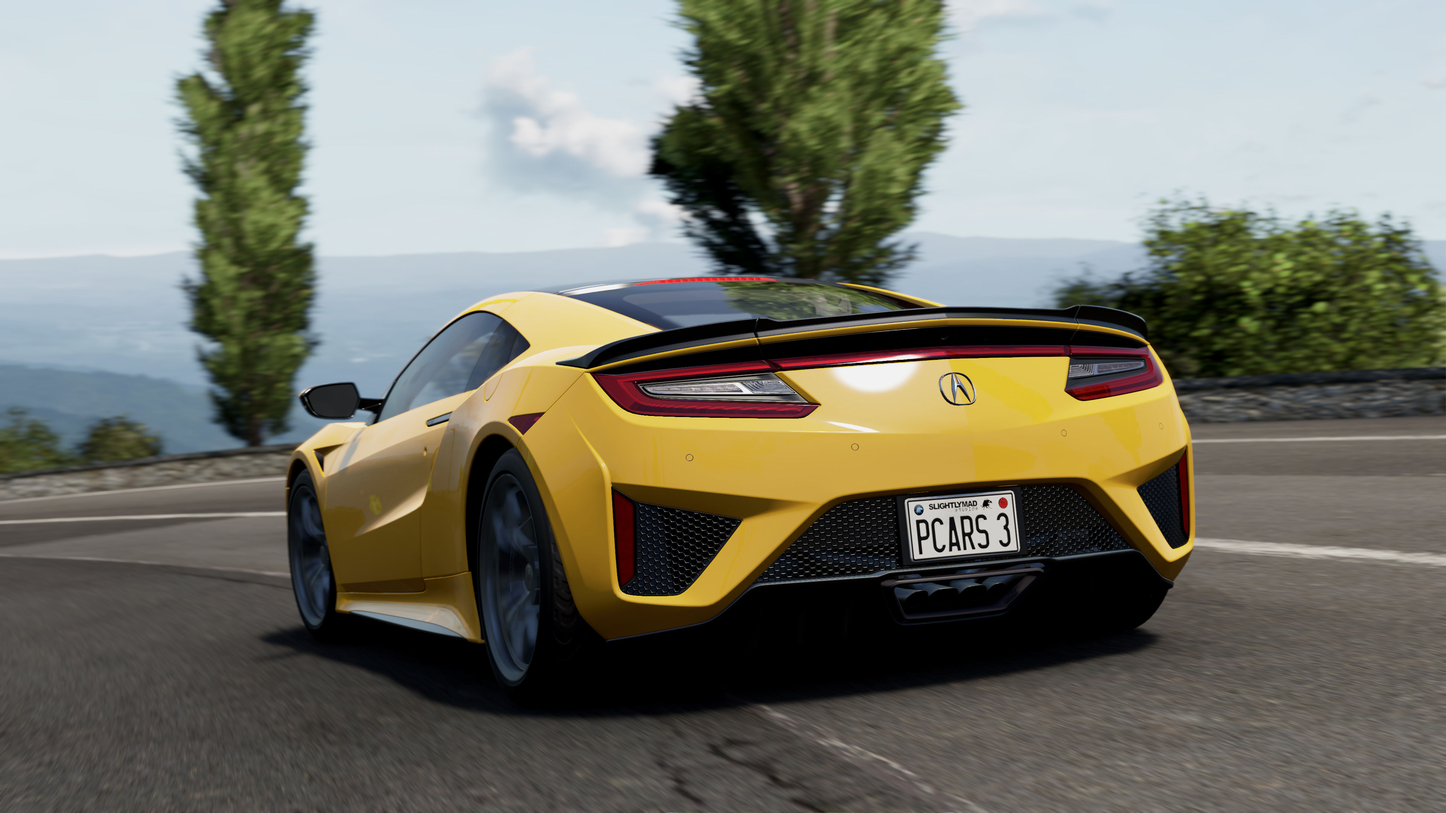other: (272, 266, 1191, 696)
